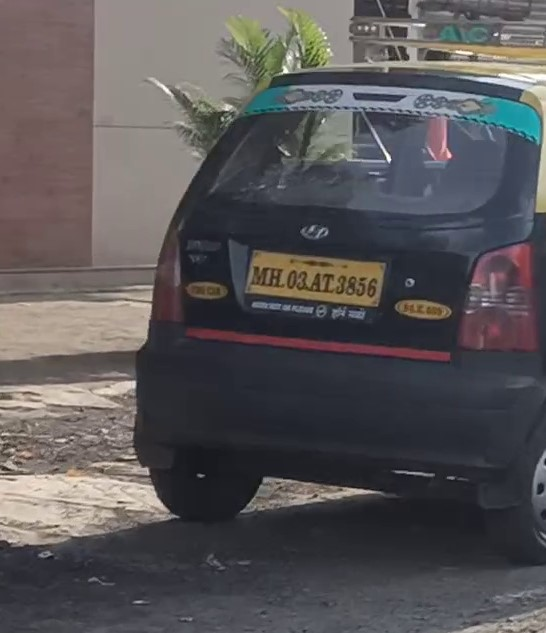MH03AT3856: (245, 250, 389, 308)
